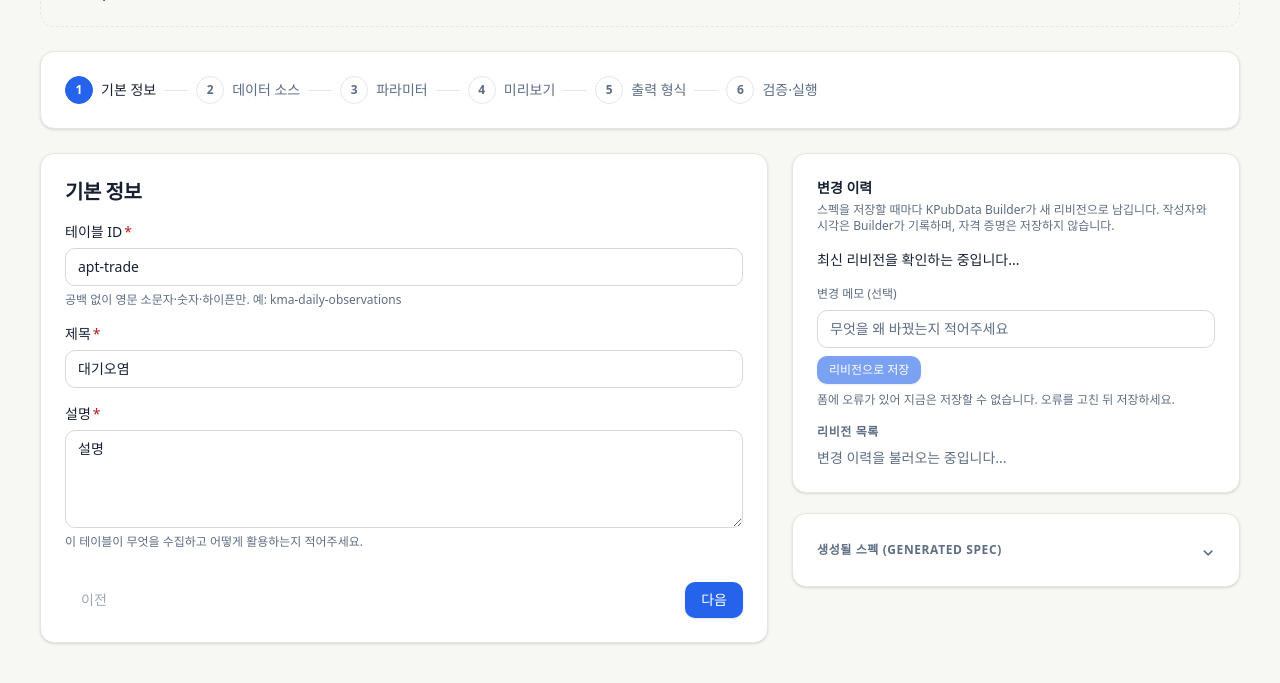
Test: Build Edit — 복원된 redaction marker fail-closed (S07) › Preview 진입 시 fail-closed — 재입력을 요구한다
(page scrolled)
Expected: the heading "기본 정보" is shown, [65,178,141,205]
Click the button "다음" at {"x": 714, "y": 600}, box [685,582,743,618]
(page scrolled)
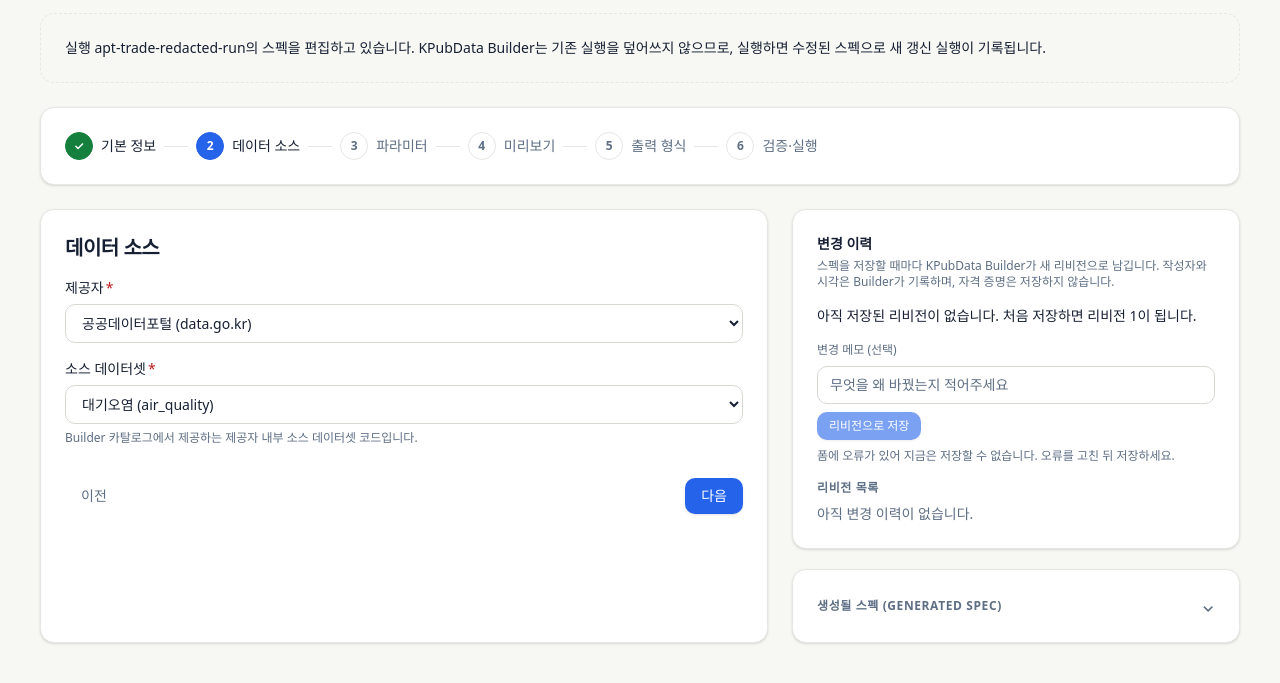
Result: the heading "데이터 소스" is shown at [65,234,159,261]
Click the button "다음" at {"x": 714, "y": 496}, box [685,478,743,514]
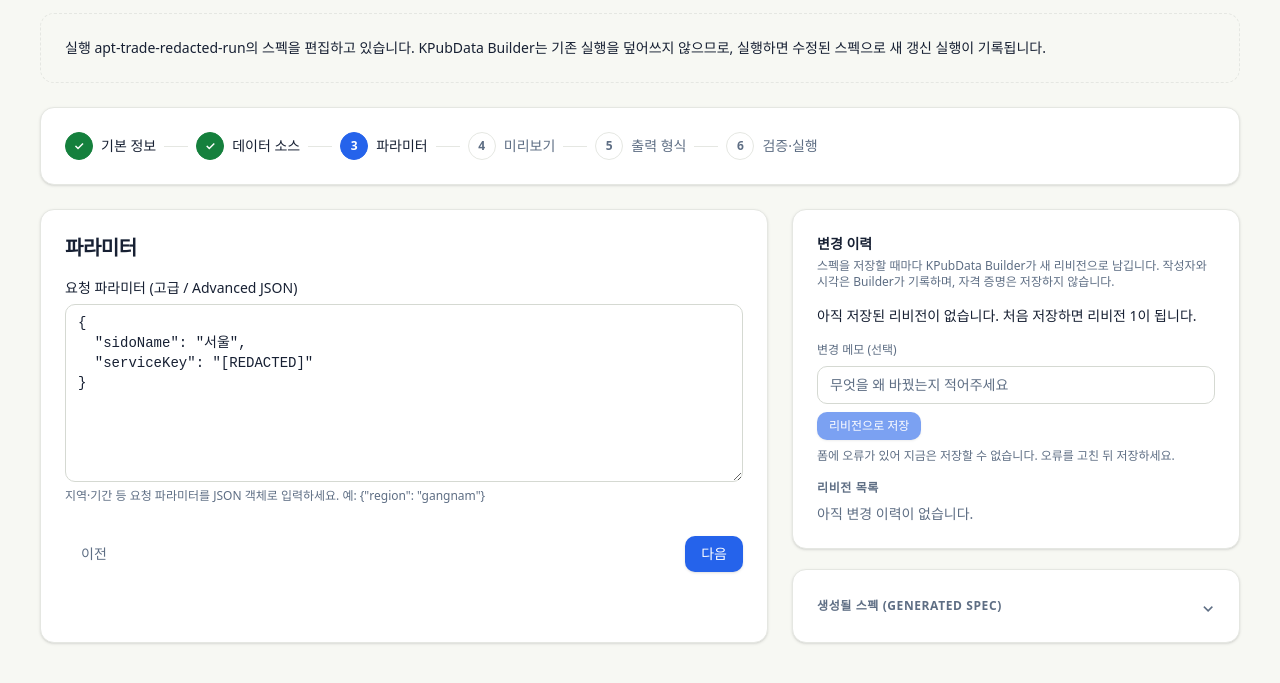
Result: the heading "파라미터" is shown at [65,234,137,261]
Click the button "다음" at {"x": 714, "y": 554}, box [685,536,743,572]
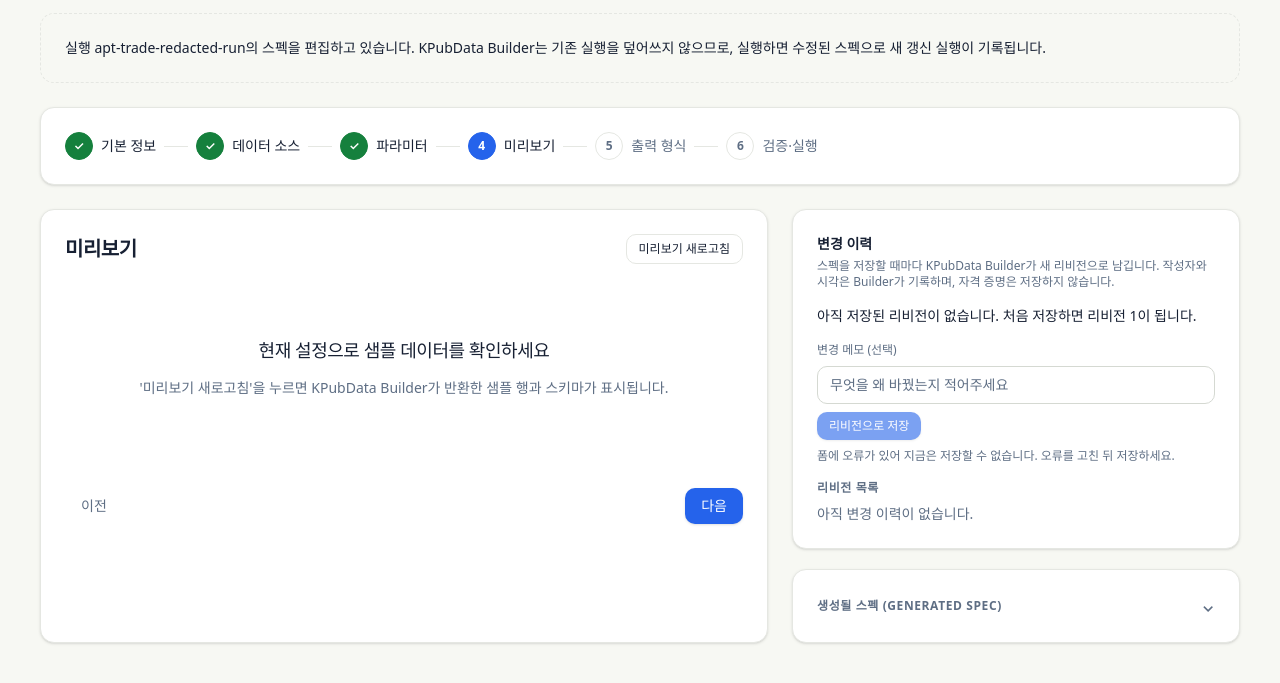
Result: the heading "미리보기" is shown at [65,235,137,263]
Click the button "미리보기 새로고침" at {"x": 684, "y": 249}, box [626,234,743,264]
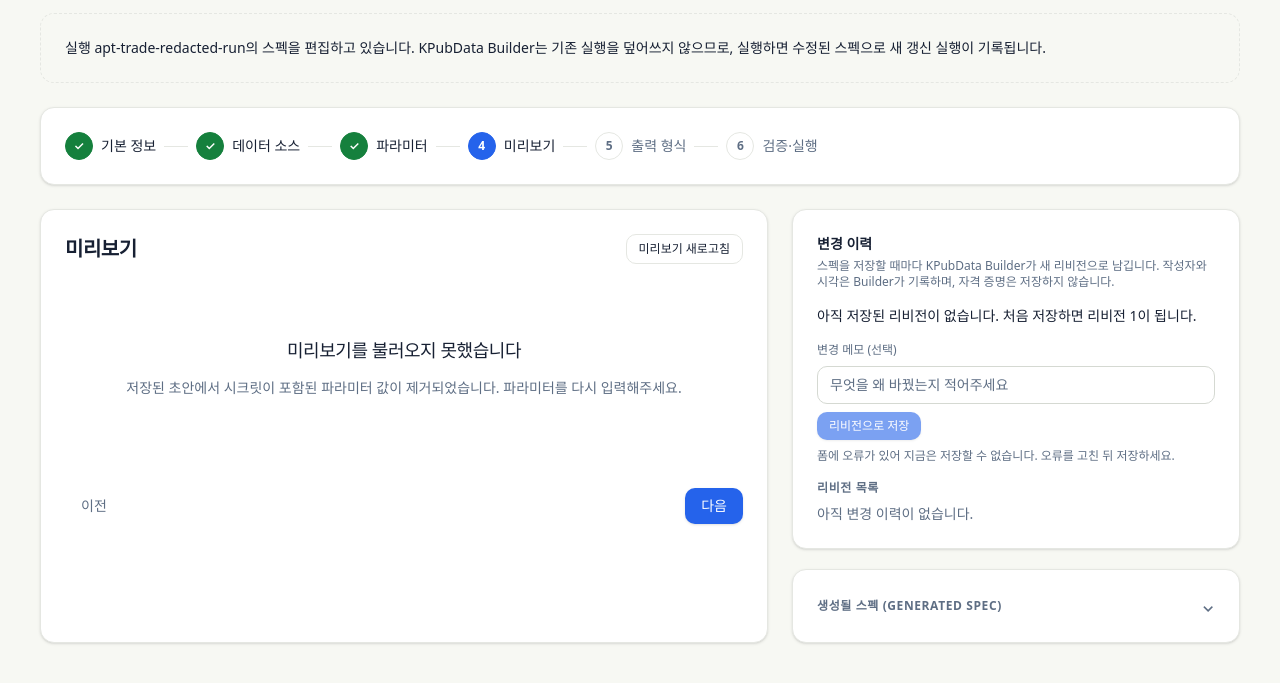
Result: the text "저장된 초안에서 시크릿이 포함된 파라미터 값이 제거되었습니다. 파라미터를 다시 입력해주세요." is shown at [126,376,682,400]
